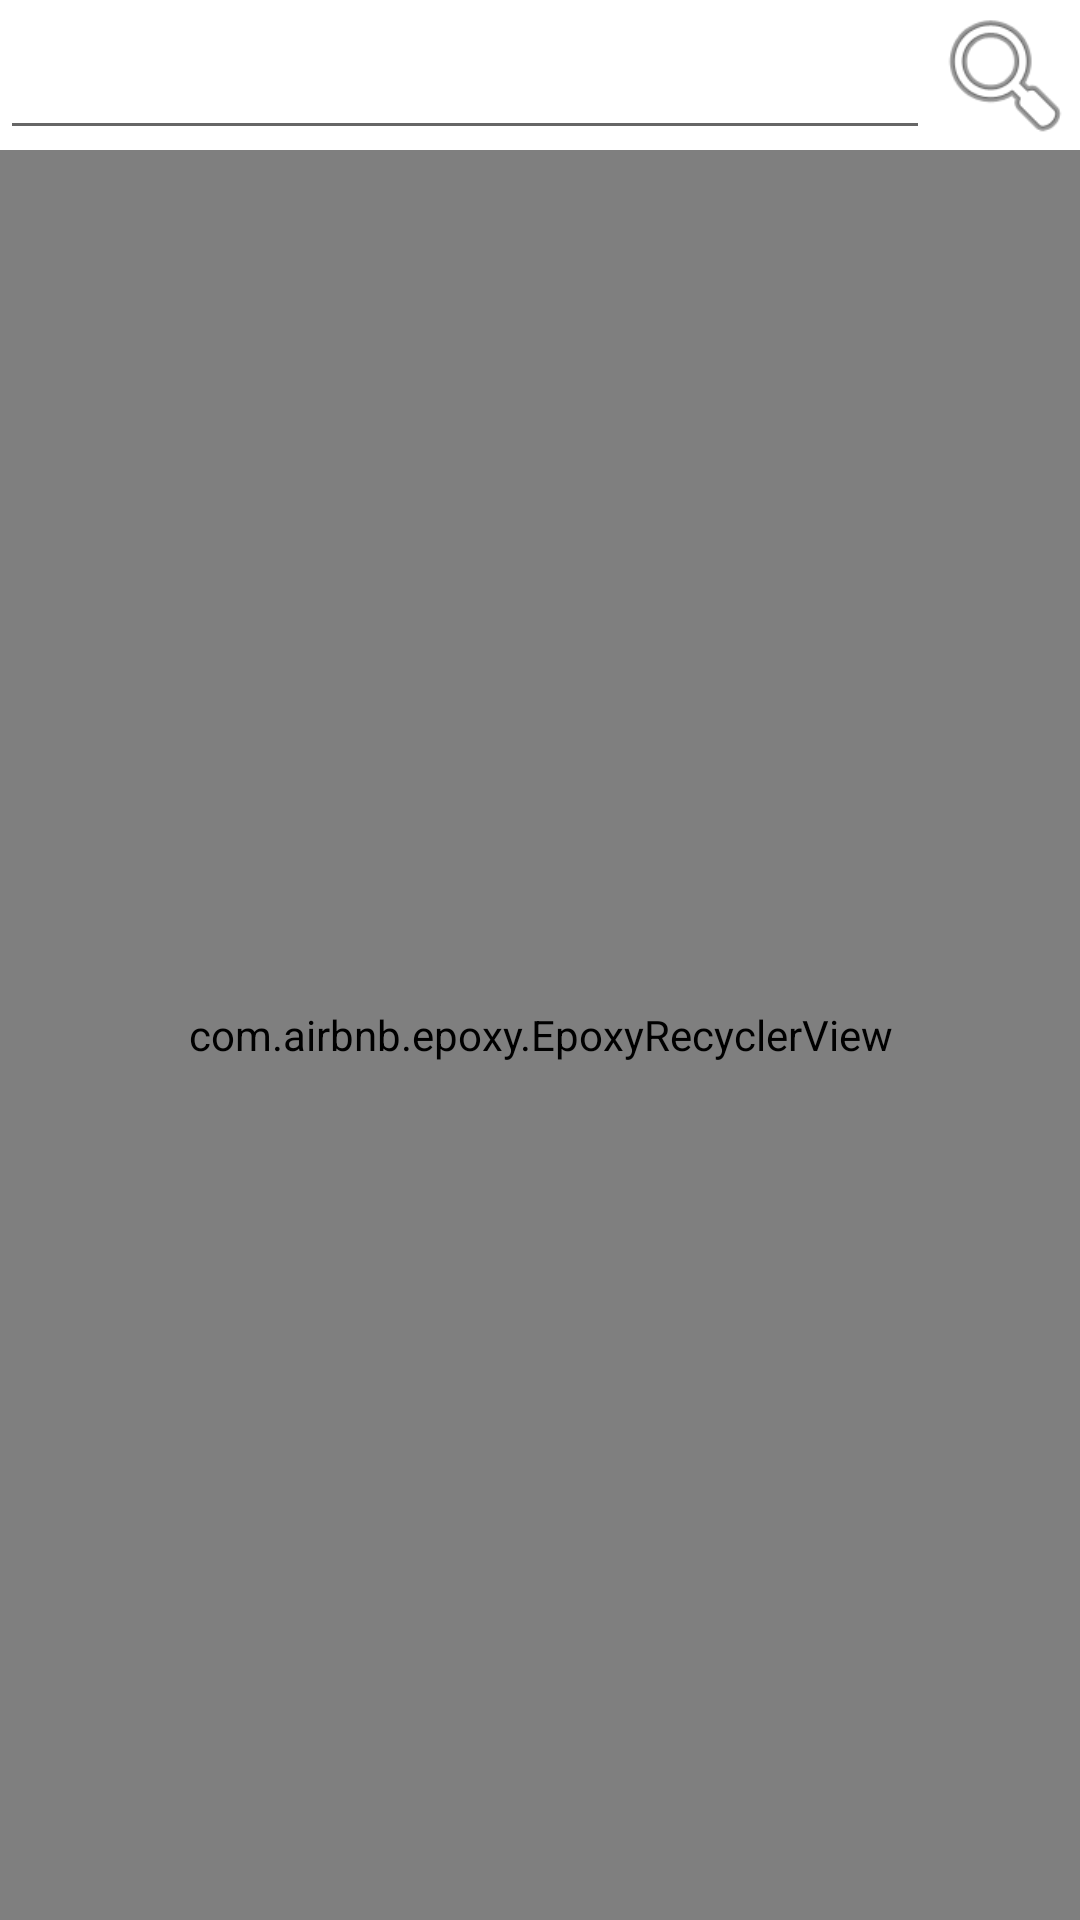

Icons on this 1080px×1920px Android screen, each with its box as (x1, y1, x2, y2):
search: (949, 20, 1061, 132)
